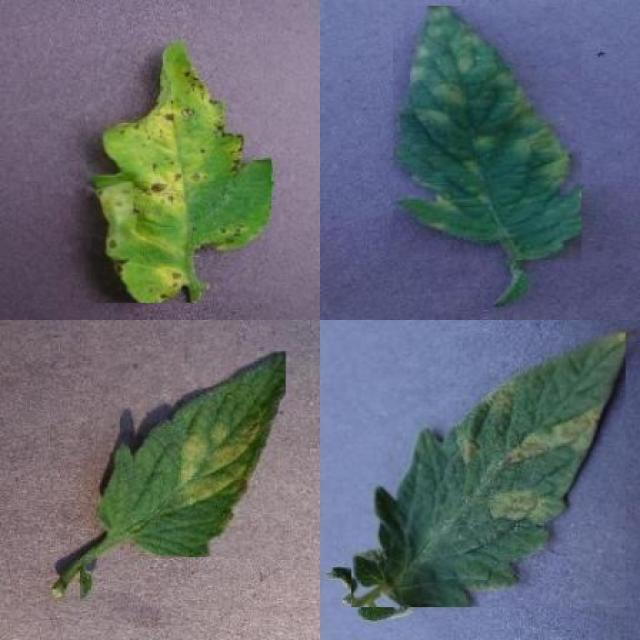Leaf Mold: (352, 330, 625, 607), (394, 6, 582, 261), (94, 352, 286, 558)
Septoria: (87, 38, 272, 303)
